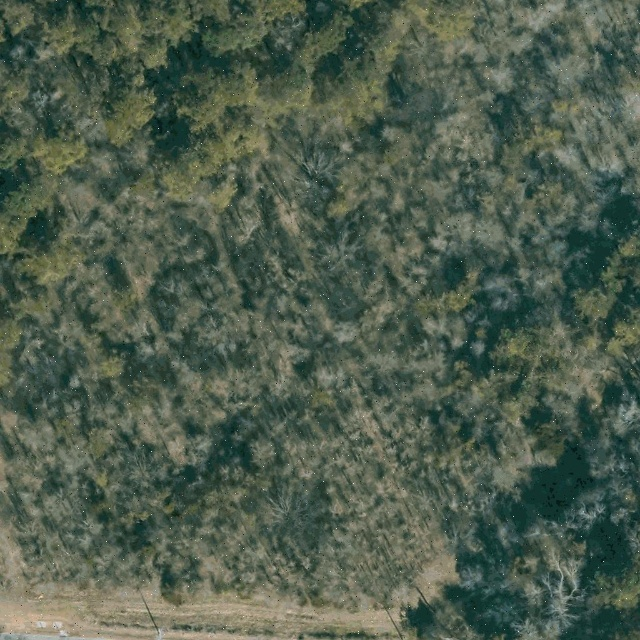vegetation: (0, 2, 638, 638)
